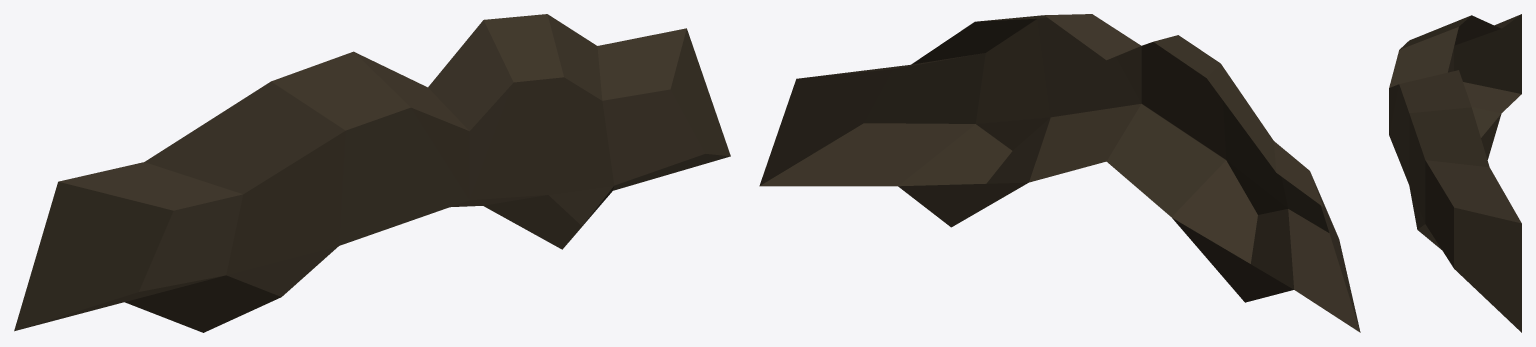
The model's file is SM_Chr_Attach_Beard_07_Mustache.fbx.
3 views of the same model, side by side, from view 1: azimuth 30°, elevation 25°; view 2: azimuth 150°, elevation 25°; view 3: azimuth 270°, elevation 25° (orthographic). The views are drawn at different scales.
Visible parts, largest first — view 1: SM_Chr_Attach_Beard_07_Mustache; view 2: SM_Chr_Attach_Beard_07_Mustache; view 3: SM_Chr_Attach_Beard_07_Mustache.
Part boxes in pixels (left/top/right/bottom): SM_Chr_Attach_Beard_07_Mustache: left=14, top=14, right=730, bottom=332; SM_Chr_Attach_Beard_07_Mustache: left=759, top=14, right=1360, bottom=332; SM_Chr_Attach_Beard_07_Mustache: left=1389, top=14, right=1521, bottom=332.
Size of the model in its own units: 15.76 by 5.56 by 3.7.
